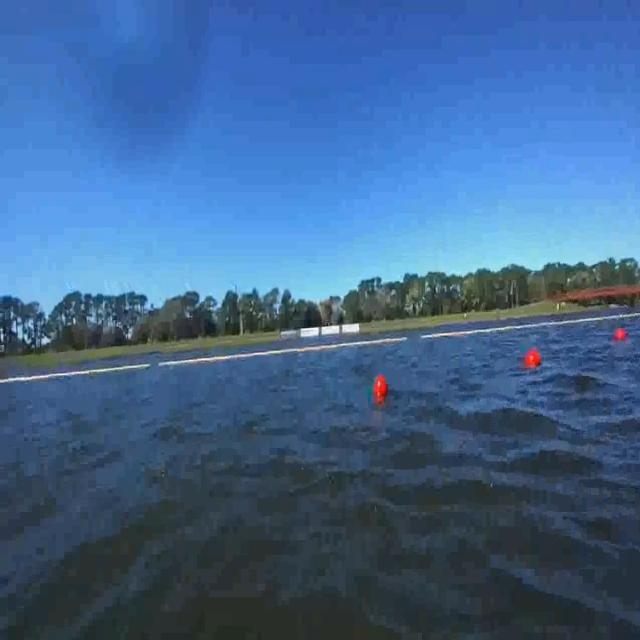red-buoy: (528, 350, 545, 370), (376, 376, 388, 398), (616, 328, 629, 343)
